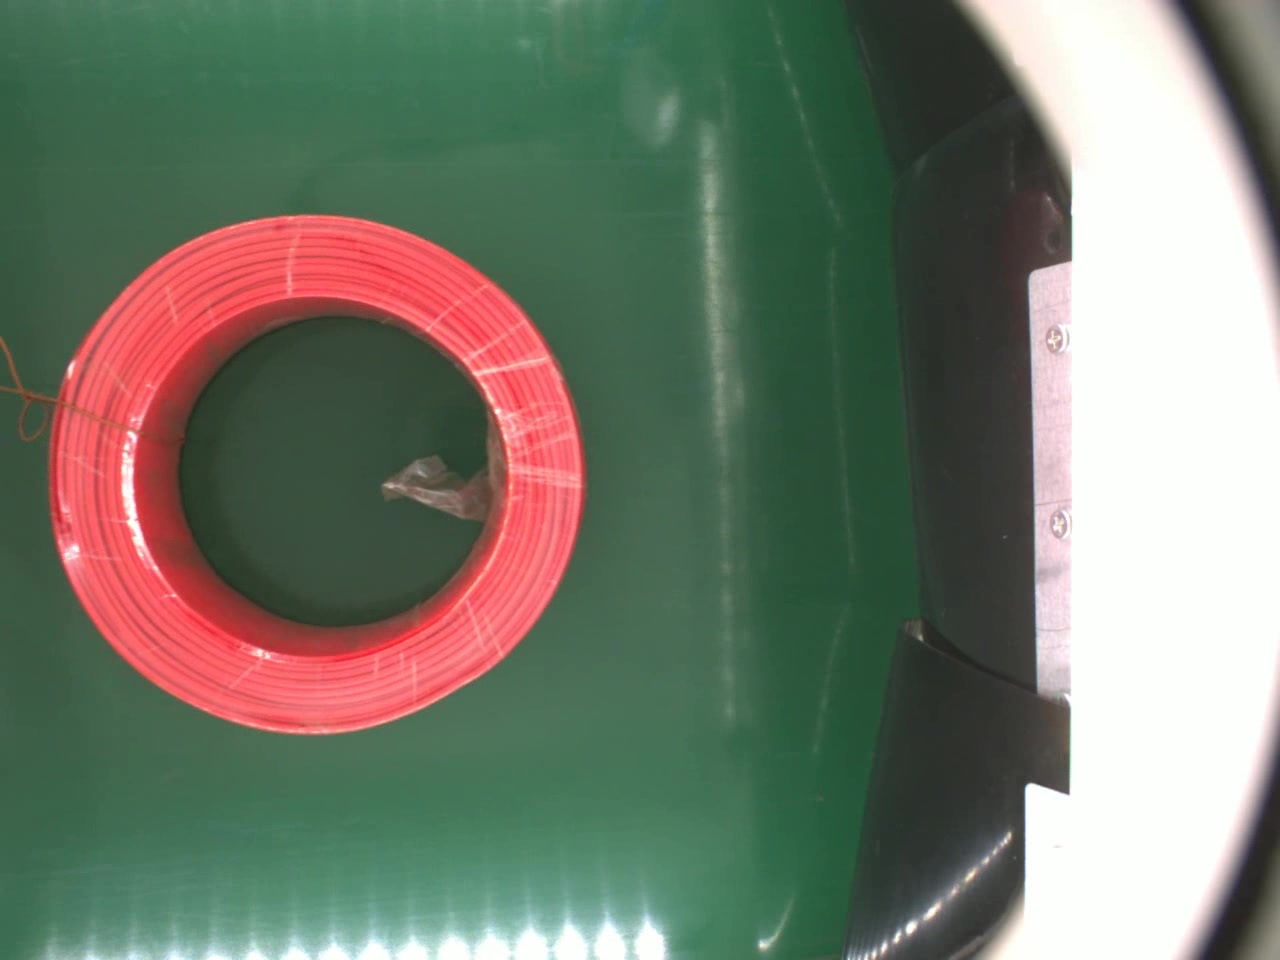red: (43, 211, 587, 742)
